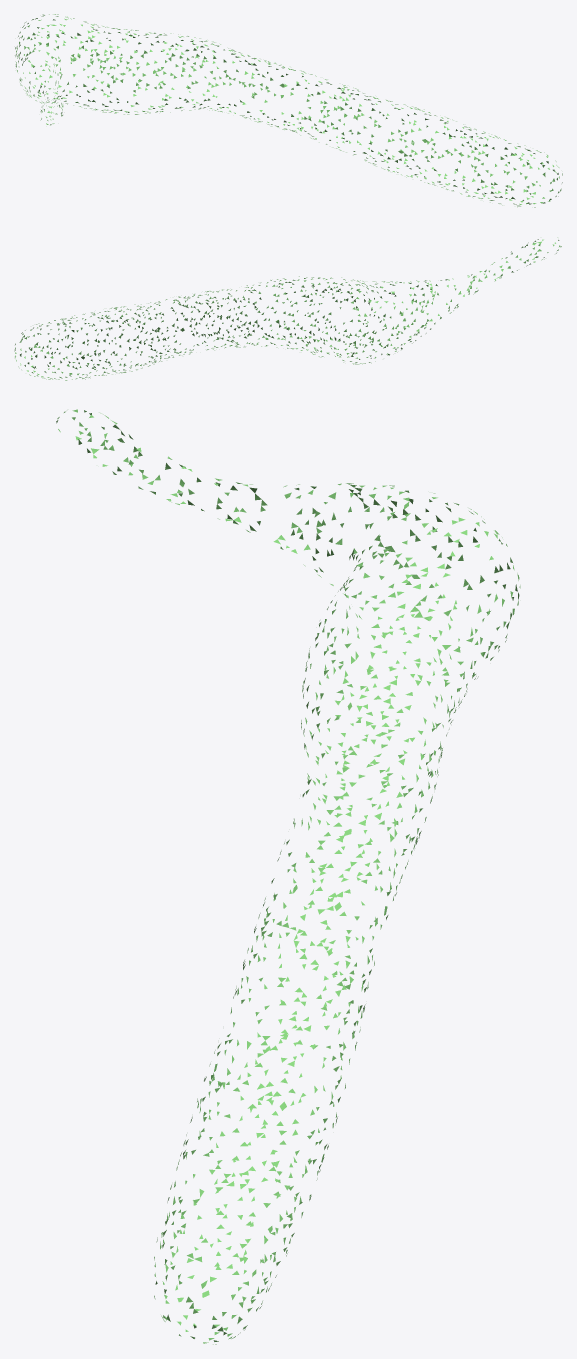
File: morph_016.glb
3 views of the same model, one above another, from view 1: azimuth 30°, elevation 25°; view 2: azimuth 150°, elevation 25°; view 3: azimuth 270°, elevation 25° (orthographic). The views are drawn at different scales.
Bounding box in the file's own units: 113 × 48.68 × 44.4.
